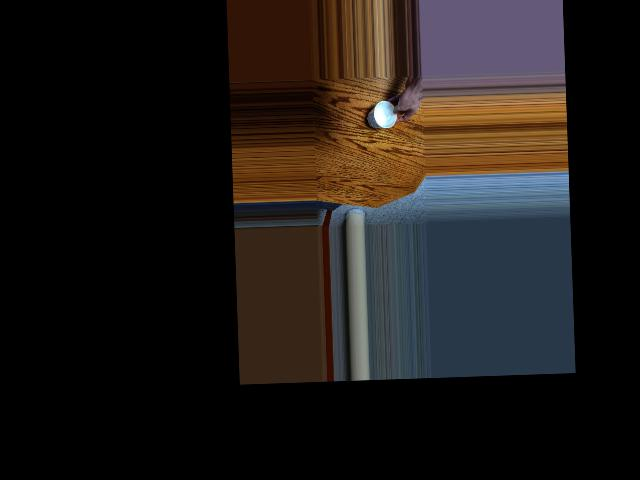cotage: (369, 100, 401, 130)
